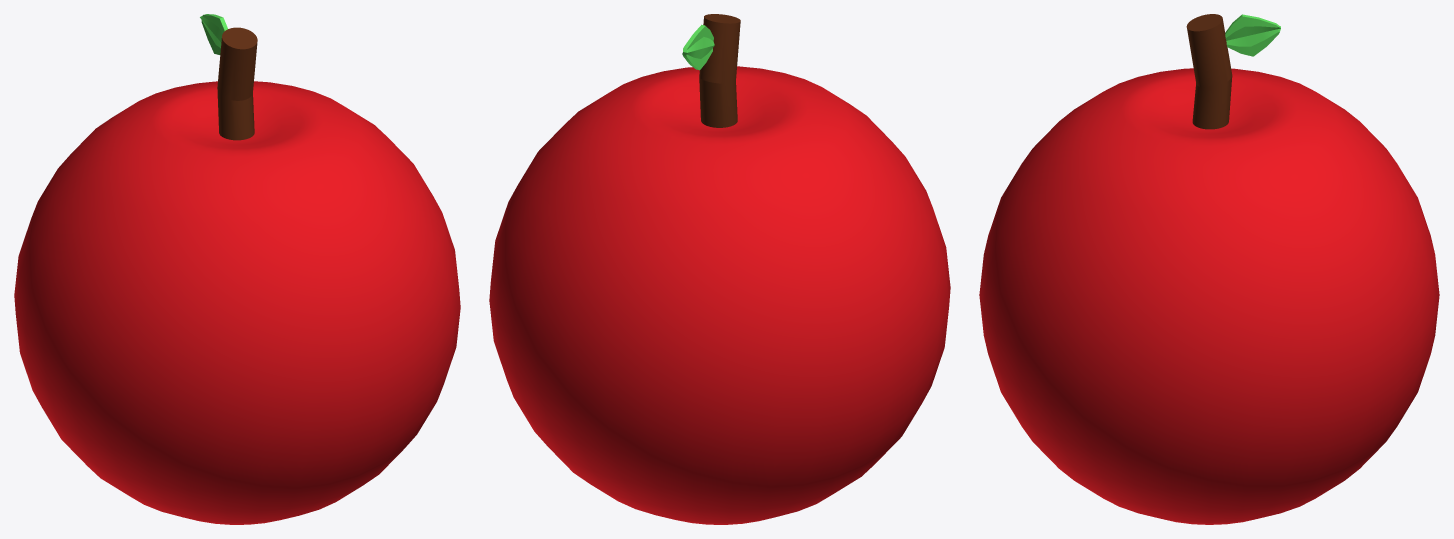
The model's file is AppleSmooth.fbx.
3 views of the same model, side by side, from view 1: azimuth 30°, elevation 25°; view 2: azimuth 150°, elevation 25°; view 3: azimuth 270°, elevation 25° (orthographic). The views are drawn at different scales.
Visible parts, largest first — view 1: Sphere, Cylinder, Cube; view 2: Sphere, Cylinder, Cube; view 3: Sphere, Cylinder, Cube.
Boxes of the visible parts, x1=… form: Sphere: x1=14, y1=81, x2=460, y2=524; Cylinder: x1=217, y1=27, x2=257, y2=140; Cube: x1=200, y1=14, x2=227, y2=54; Sphere: x1=489, y1=66, x2=950, y2=524; Cylinder: x1=699, y1=14, x2=740, y2=127; Cube: x1=682, y1=24, x2=714, y2=70; Sphere: x1=979, y1=68, x2=1439, y2=524; Cylinder: x1=1186, y1=14, x2=1232, y2=129; Cube: x1=1225, y1=14, x2=1280, y2=56.
Bounding box in the file's own units: 200 × 231 × 200.
